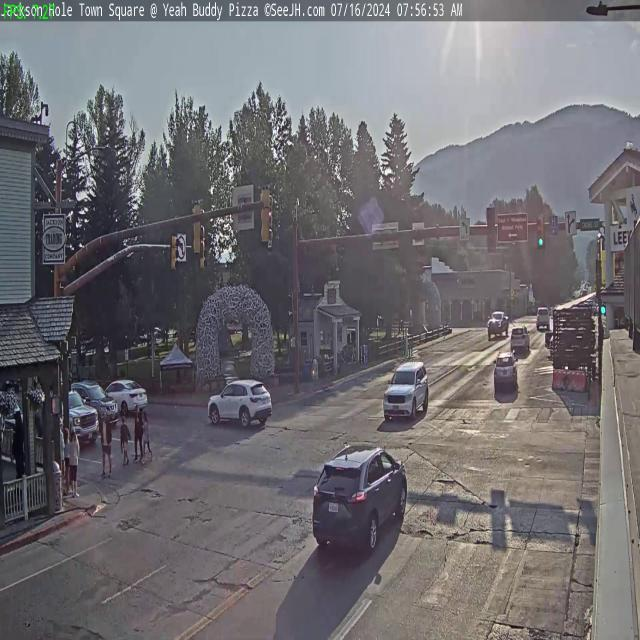person: (12, 411, 24, 490), (101, 402, 112, 477), (68, 420, 79, 493), (135, 402, 146, 461), (120, 400, 128, 462)
pickup: (48, 385, 99, 450), (485, 307, 510, 339)
sedan: (104, 378, 146, 417)
suv: (309, 440, 409, 553), (207, 376, 272, 430), (381, 358, 429, 421), (73, 380, 119, 428), (492, 352, 518, 388), (510, 327, 530, 349)
traffic light: (260, 184, 272, 244), (191, 199, 203, 257), (486, 208, 497, 255), (171, 234, 179, 271), (536, 215, 544, 248)
